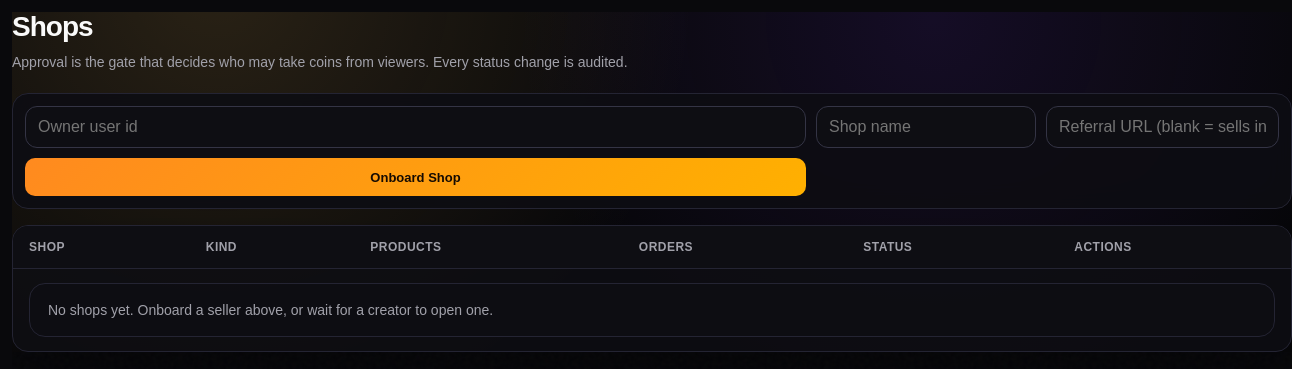
Test case: ShopsPage › onboard failure surfaces the API error
Expected: the text "No shops yet" is shown, [48,302,493,318]
Type "u9" into the field with placeholder "Owner user id" at [416, 127], box [25,106,806,148]
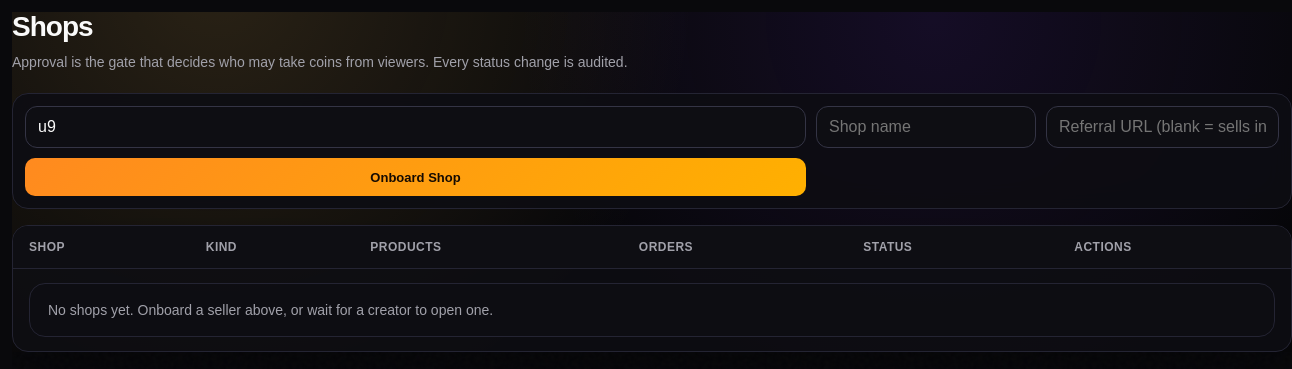
Type "Dupe" into the field with placeholder "Shop name" at [926, 127], box [816,106,1036,148]
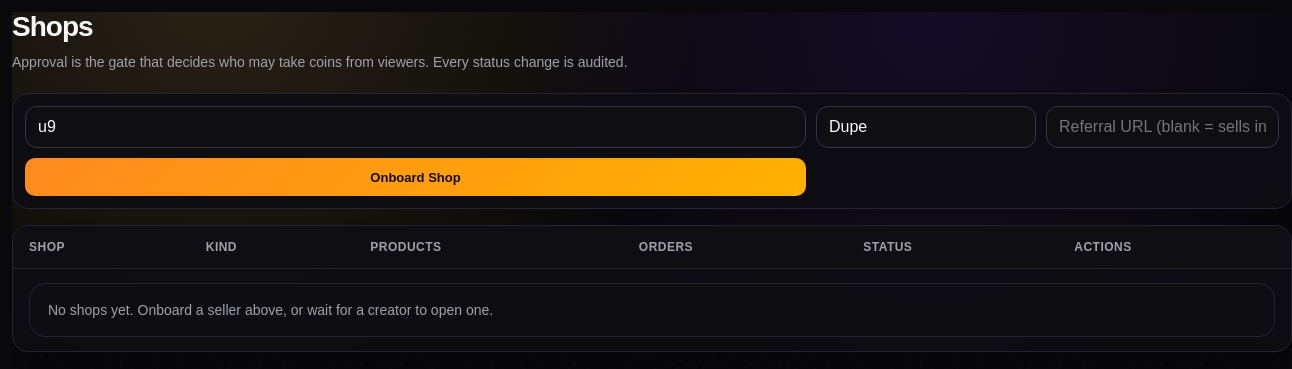
Click the button "Onboard Shop" at [416, 177], box [25,158,806,196]
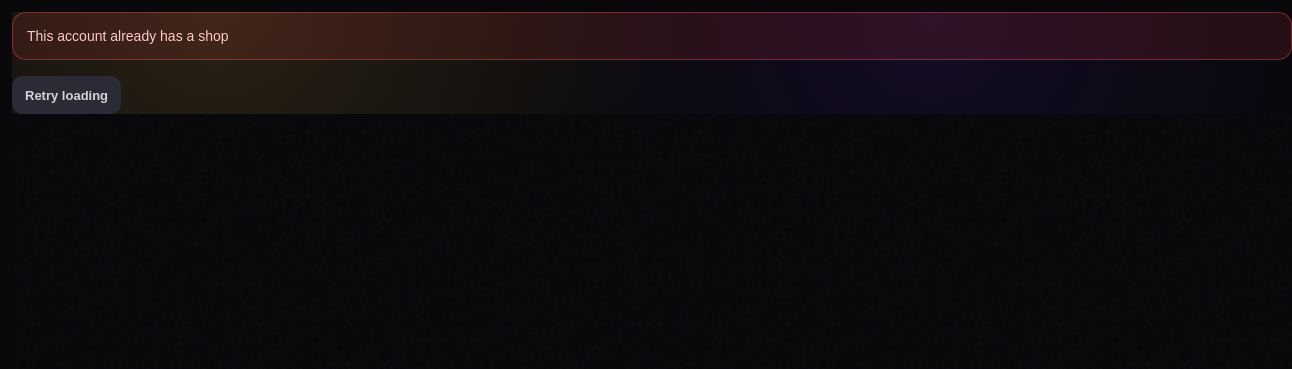
Now the text "This account already has a shop" is shown, box [12,12,1291,60]
